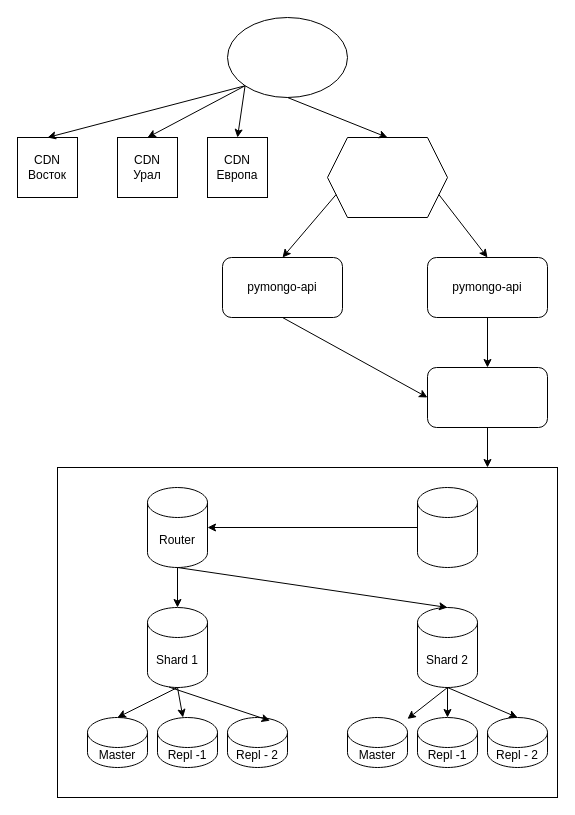
This 575x815 diagram has some shape labels left out. The shapes that lost their labels are listed below. From the top down, each one's box as (x1, y1, x2, y2) in pixels, then its label:
(226, 16, 348, 98): Клиент
(326, 136, 448, 218): APISIX api gateway
(426, 366, 548, 428): Redis
(416, 486, 478, 568): configSrv
(56, 466, 558, 798): Кластер MongoDb
